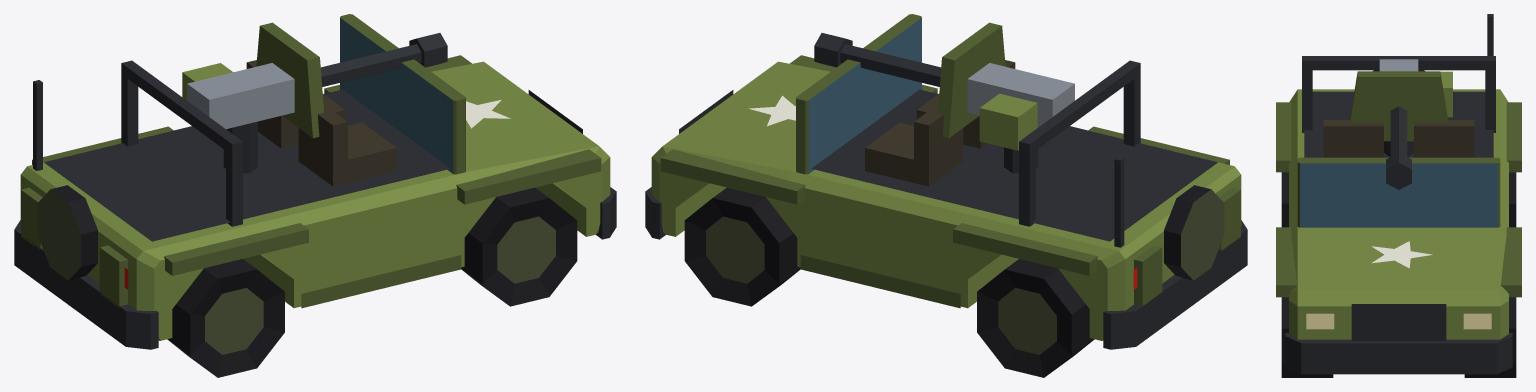
Rendered from jeep.glb.
3 views of the same model, side by side, from view 1: azimuth 30°, elevation 25°; view 2: azimuth 150°, elevation 25°; view 3: azimuth 270°, elevation 25° (orthographic). The views are drawn at different scales.
Parts seen in each view (by area): view 1: Body, Turret; view 2: Body, Turret; view 3: Body, Turret.
Boxes of the visible parts, <box> form: Body: <box>14,14,616,377</box>; Turret: <box>182,22,447,173</box>; Body: <box>645,14,1247,377</box>; Turret: <box>814,22,1074,173</box>; Body: <box>1276,14,1521,377</box>; Turret: <box>1350,59,1452,189</box>.
Size of the model in its own units: 0.47 by 0.227 by 0.228.
